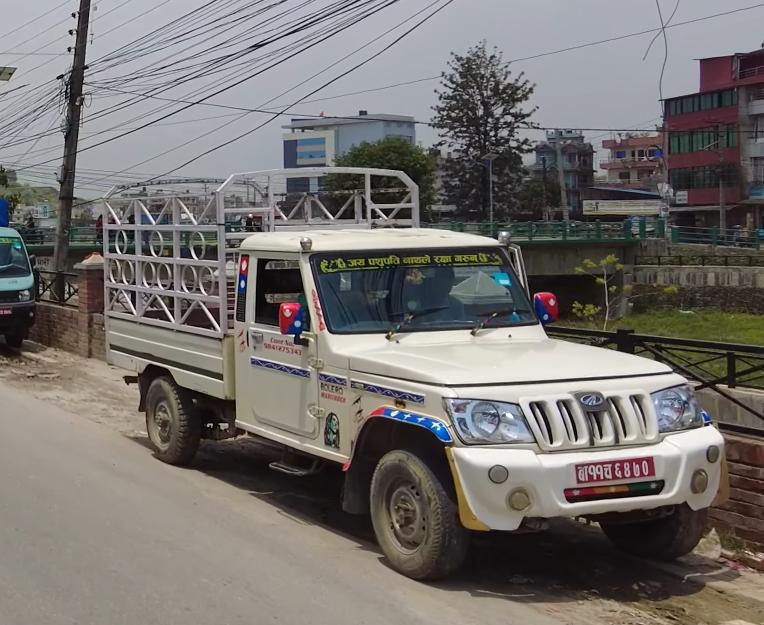mini_truck: (0, 199, 52, 364)
transport_vehicle: (87, 163, 732, 587)
